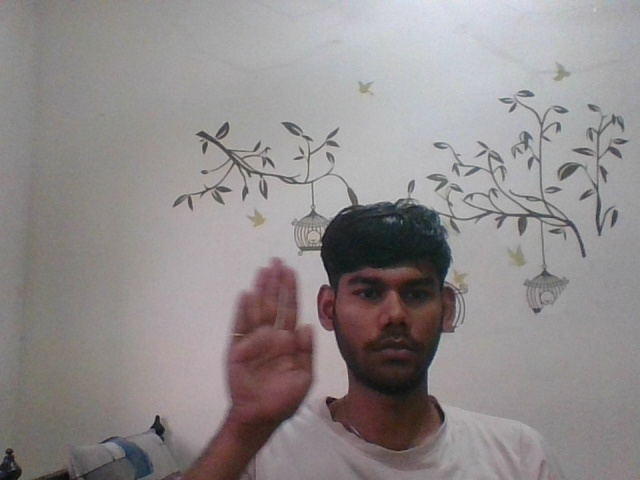Hello: (206, 257, 328, 427)
